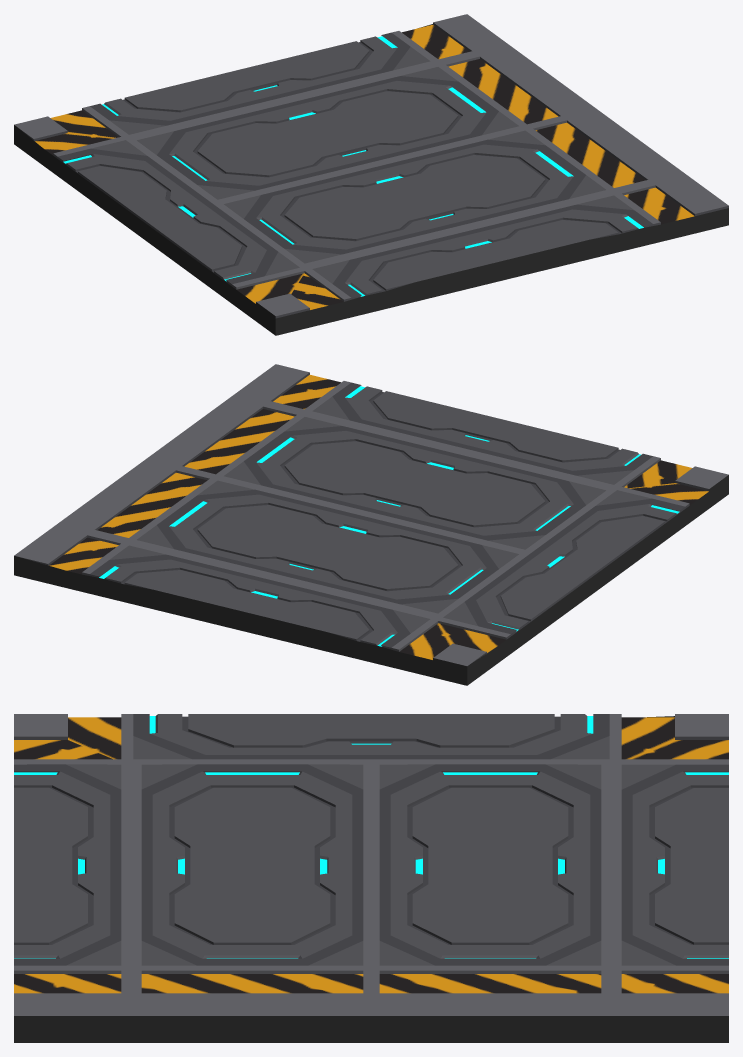
The model's file is SM_Bld_Floor_03.fbx.
The picture shows the model from 3 angles, top to bottom: view 1: azimuth 30°, elevation 25°; view 2: azimuth 150°, elevation 25°; view 3: azimuth 270°, elevation 25°; orthographic projection. The views are drawn at different scales.
Parts seen in each view (by area): view 1: SM_Bld_Floor_03_LOD0; view 2: SM_Bld_Floor_03_LOD0; view 3: SM_Bld_Floor_03_LOD0.
Part boxes in pixels (x1,y1,x2,y2): SM_Bld_Floor_03_LOD0: [14, 14, 728, 335]; SM_Bld_Floor_03_LOD0: [14, 364, 728, 685]; SM_Bld_Floor_03_LOD0: [14, 714, 728, 1042].
Bounding box in the file's own units: 500 × 500 × 20.68.
Materials: 1 (1 with a texture image).
